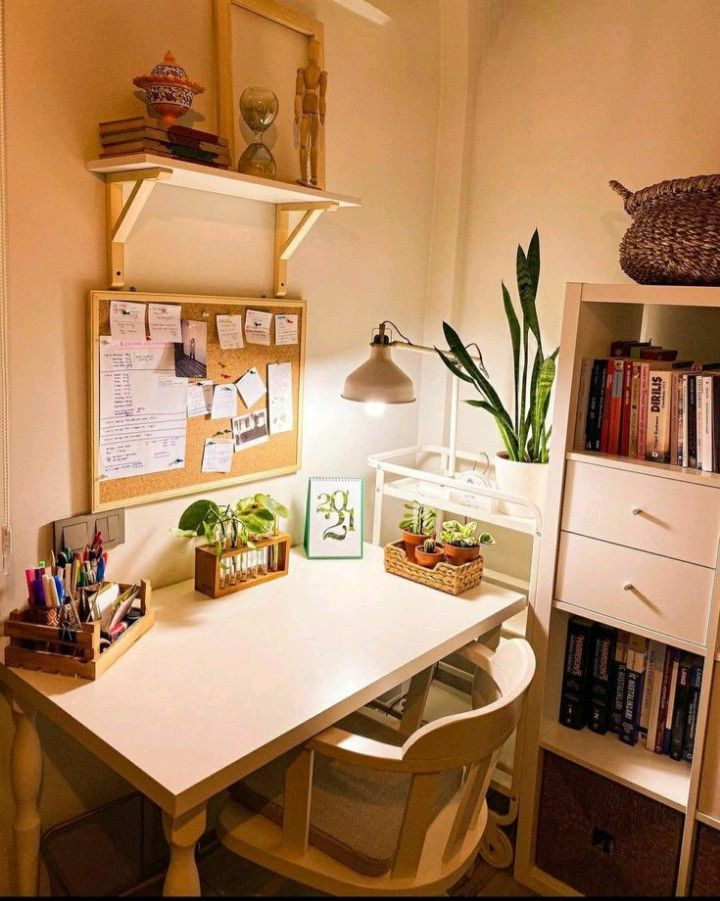not a gesture sign: (66, 65, 410, 288)
